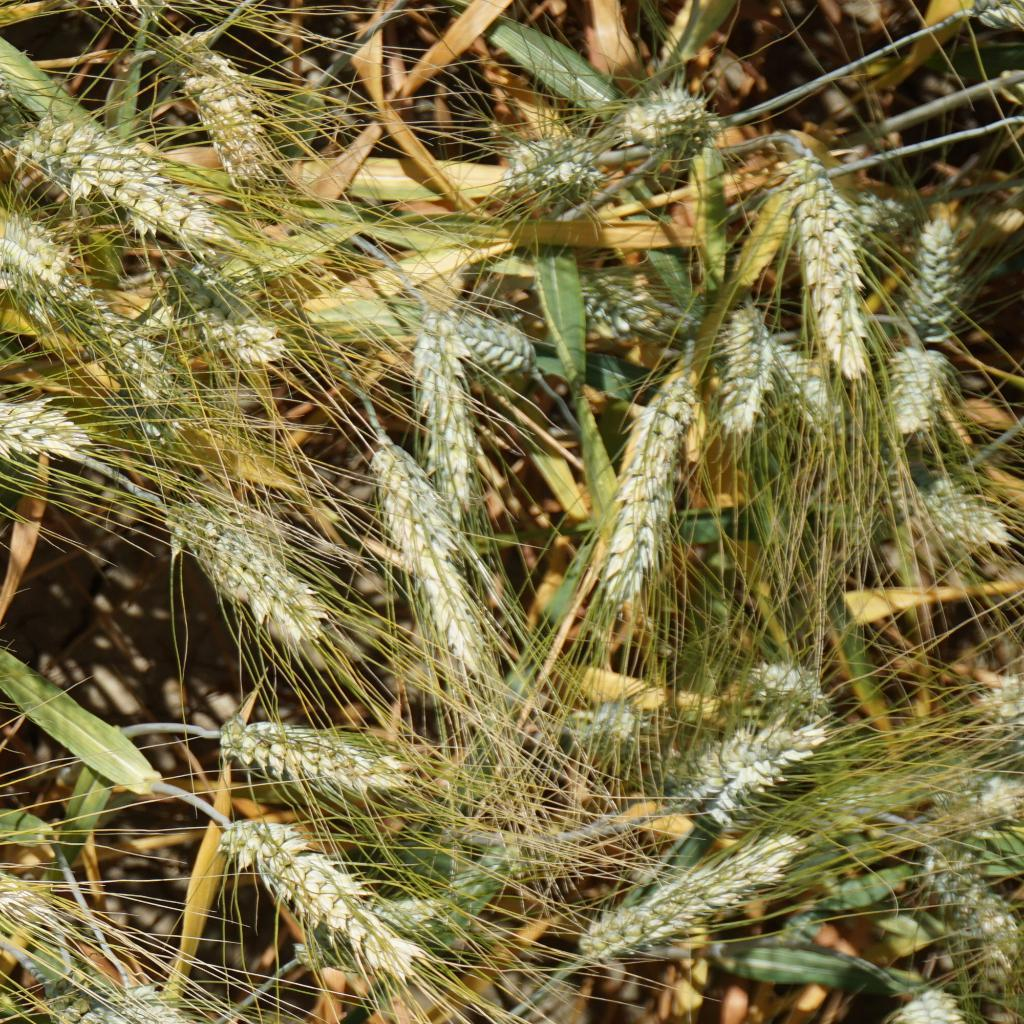0-0: (207, 807, 423, 995), (19, 110, 226, 246), (203, 701, 444, 816), (31, 262, 188, 438), (362, 435, 476, 673), (157, 500, 326, 649), (153, 239, 321, 381), (594, 352, 685, 600), (567, 858, 799, 951), (789, 181, 872, 368), (179, 51, 289, 185), (403, 334, 478, 504), (683, 722, 813, 815), (0, 354, 92, 472), (929, 852, 1021, 966), (900, 198, 965, 356), (496, 121, 602, 216), (712, 287, 777, 423), (425, 297, 521, 384), (616, 70, 700, 163), (51, 980, 222, 1024), (891, 334, 953, 441), (921, 472, 1004, 543), (774, 330, 838, 417), (0, 20, 35, 160), (557, 693, 640, 752), (584, 265, 655, 332), (114, 990, 248, 1024), (0, 210, 60, 285), (889, 984, 988, 1024), (756, 661, 823, 707), (0, 799, 21, 941)
